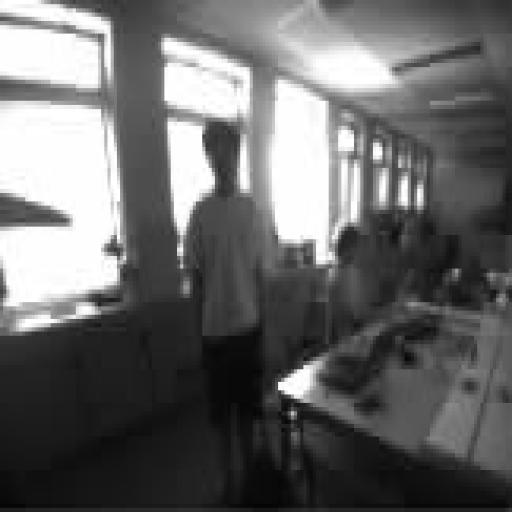human: (184, 118, 265, 503), (326, 227, 379, 344)
